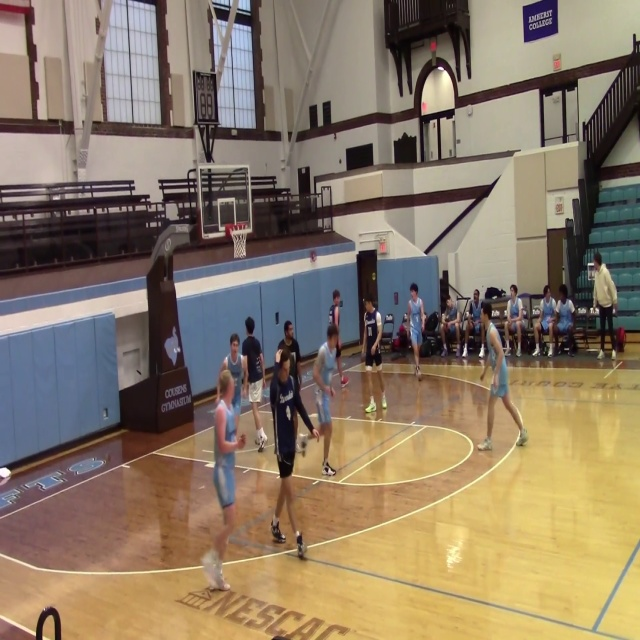Basketball: (0, 467, 11, 479), (340, 376, 349, 385)
